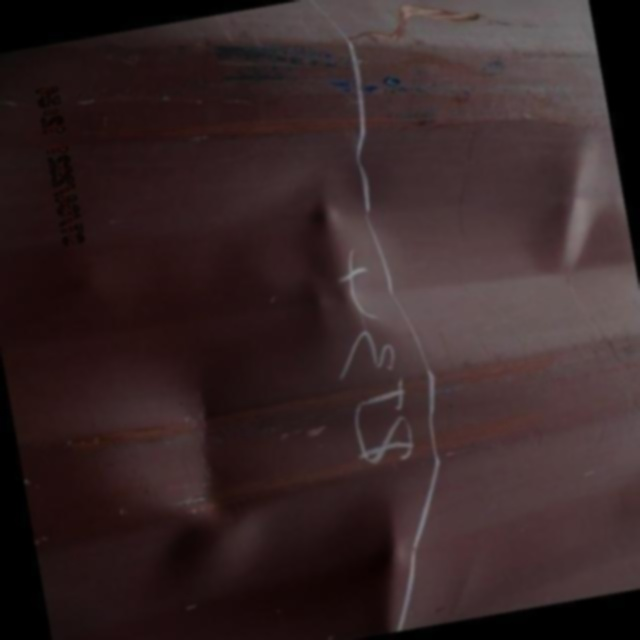Dent: (13, 108, 522, 640)
